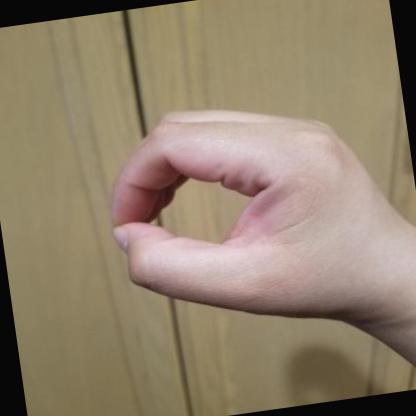O: (111, 109, 416, 321)
